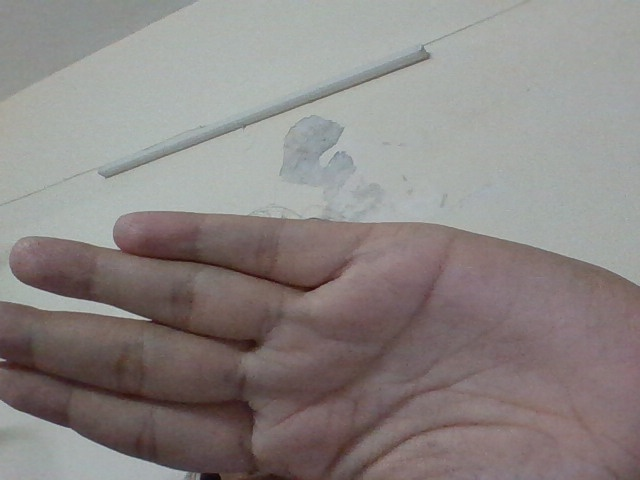play: (1, 202, 635, 480)
